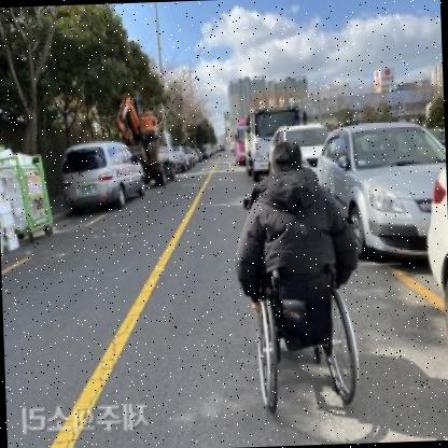wheel: (236, 146, 357, 410)
